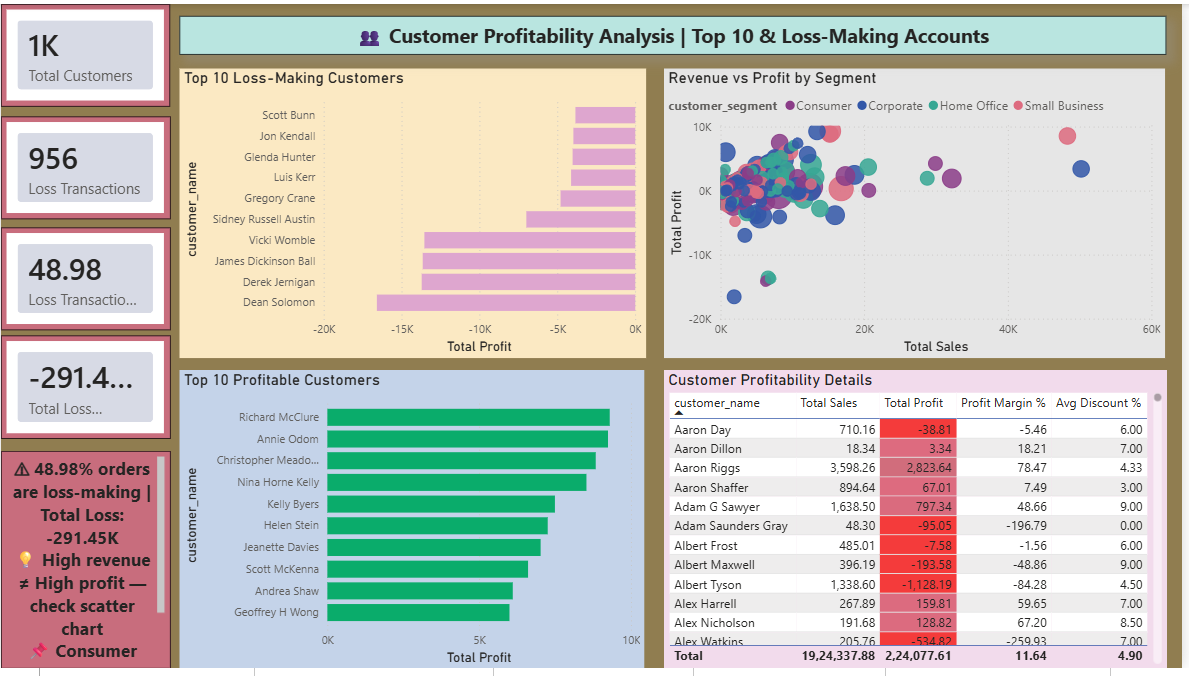

This screenshot's page, from the dashboard's own definition file:
{"tool":"powerbi","page":{"name":"Customer Profitability","canvas":[1280,720],"ordinal":1},"visuals":[{"type":"cardVisual","fields":{"Data":["_Measures.Total Customers"]},"box":[0,0,183.3,111.5],"z":0},{"type":"cardVisual","fields":{"Data":["_Measures.Loss Transactions"]},"box":[0,121.2,183.8,111.2],"z":1000},{"type":"cardVisual","fields":{"Data":["_Measures.Loss Transaction %"]},"box":[0,242.5,183.8,111.2],"z":2000},{"type":"cardVisual","fields":{"Data":["_Measures.Total Loss Amount"]},"box":[0,359.5,183.8,112.2],"z":3000},{"type":"clusteredBarChart","title":"Top 10 Profitable Customers","fields":{"Category":["SuperStoreUs_data.customer_name"],"Y":["_Measures.Total Profit"]},"box":[193.6,396.9,504.2,323.7],"z":4000},{"type":"clusteredBarChart","title":"Top 10 Loss-Making Customers","fields":{"Category":["SuperStoreUs_data.customer_name"],"Y":["_Measures.Total Profit"]},"box":[193.6,69.9,505.9,313.9],"z":5000},{"type":"scatterChart","title":"Revenue vs Profit by Segment","fields":{"X":["_Measures.Total Sales"],"Y":["_Measures.Total Profit"],"Size":["_Measures.Total Orders"],"Series":["SuperStoreUs_data.customer_segment"],"Category":["SuperStoreUs_data.customer_name"]},"box":[718.9,69.9,543.3,313.9],"z":6000},{"type":"tableEx","title":"Customer Profitability Details","fields":{"Values":["SuperStoreUs_data.customer_name","_Measures.Total Sales","_Measures.Total Profit","_Measures.Profit Margin %","_Measures.Avg Discount %"]},"box":[718.9,396.9,544.9,323.7],"z":7000},{"type":"textbox","box":[0,484.7,183.8,235.8],"z":8000},{"type":"textbox","box":[193.6,13,1070.3,42.3],"z":8001}]}

Visuals, with their boxes in screenshot pixels (x1, y1, x2, y2), scaled from the page's 1280x720 canvas onto the 1189x676 screenshot:
cardVisual - _Measures.Total Customers: x1=0 y1=0 x2=170 y2=105
cardVisual - _Measures.Loss Transactions: x1=0 y1=114 x2=171 y2=218
cardVisual - _Measures.Loss Transaction %: x1=0 y1=228 x2=171 y2=332
cardVisual - _Measures.Total Loss Amount: x1=0 y1=338 x2=171 y2=443
"Top 10 Profitable Customers" clusteredBarChart: x1=180 y1=373 x2=648 y2=675
"Top 10 Loss-Making Customers" clusteredBarChart: x1=180 y1=66 x2=650 y2=360
"Revenue vs Profit by Segment" scatterChart: x1=668 y1=66 x2=1172 y2=360
"Customer Profitability Details" tableEx: x1=668 y1=373 x2=1174 y2=675
textbox: x1=0 y1=455 x2=171 y2=675
textbox: x1=180 y1=12 x2=1174 y2=52
